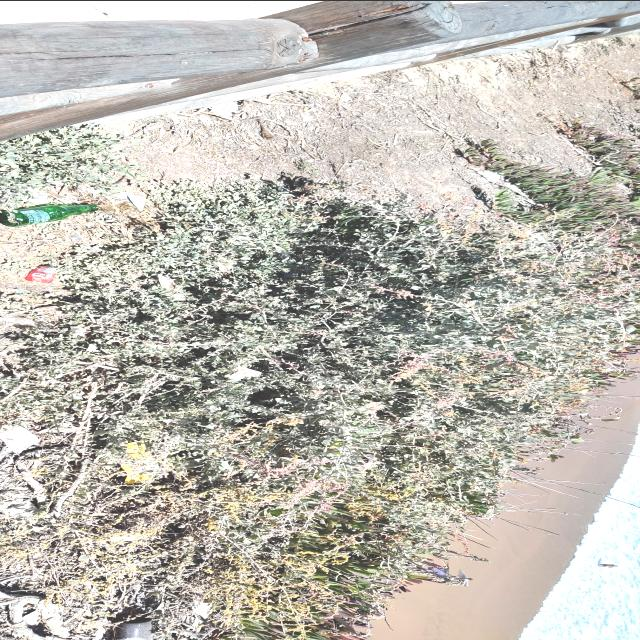Cigarette: (161, 147, 174, 153)
Glass bottle: (1, 203, 99, 226), (115, 617, 152, 640)
Other plastic: (119, 439, 160, 483)
Plastic film: (151, 273, 186, 300)
Unlabeled litter: (0, 424, 39, 456), (191, 601, 212, 630), (24, 264, 57, 282), (226, 367, 261, 380), (208, 100, 238, 115), (127, 192, 145, 210), (476, 169, 501, 181), (104, 191, 129, 203), (107, 534, 149, 540)
